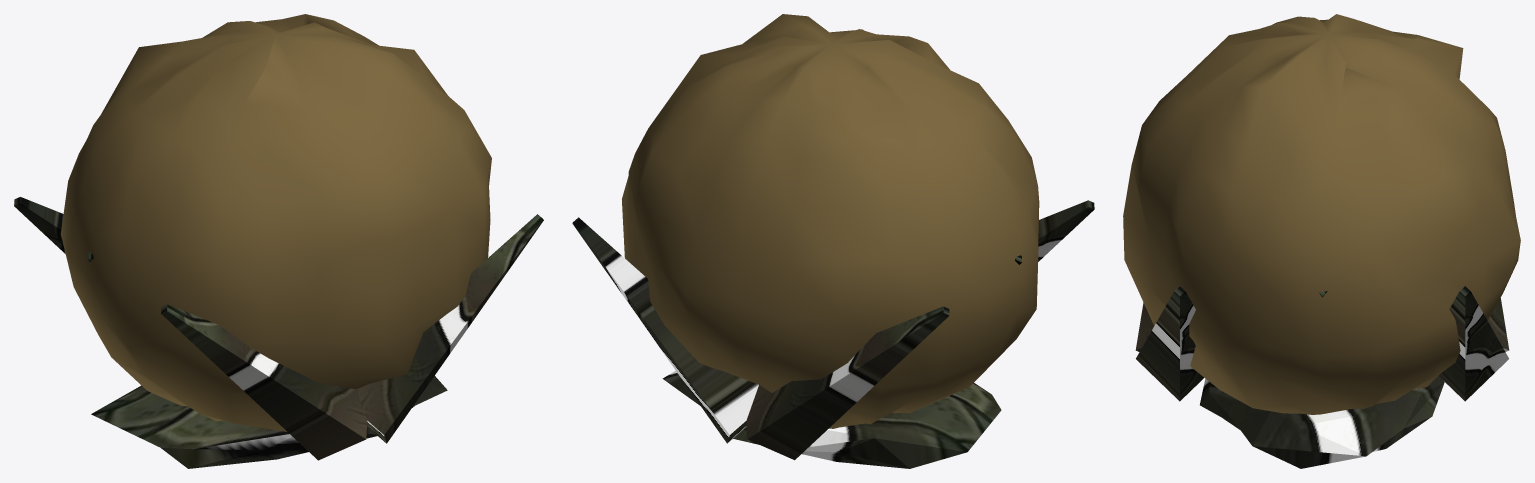
The model's file is verdant_strain_chrysalis.glb.
The picture shows the model from 3 angles, left to right: view 1: azimuth 30°, elevation 25°; view 2: azimuth 150°, elevation 25°; view 3: azimuth 270°, elevation 25°; orthographic projection. The views are drawn at different scales.
Parts seen in each view (by area): view 1: VerdantStrainChrysalis; view 2: VerdantStrainChrysalis; view 3: VerdantStrainChrysalis.
Boxes of the visible parts, left/top/right/bottom form: VerdantStrainChrysalis: left=14, top=14, right=543, bottom=468; VerdantStrainChrysalis: left=572, top=14, right=1094, bottom=468; VerdantStrainChrysalis: left=1123, top=14, right=1520, bottom=468.
Bounding box in the file's own units: 3.11 × 3.05 × 2.88.
3 materials, 2 textured.
